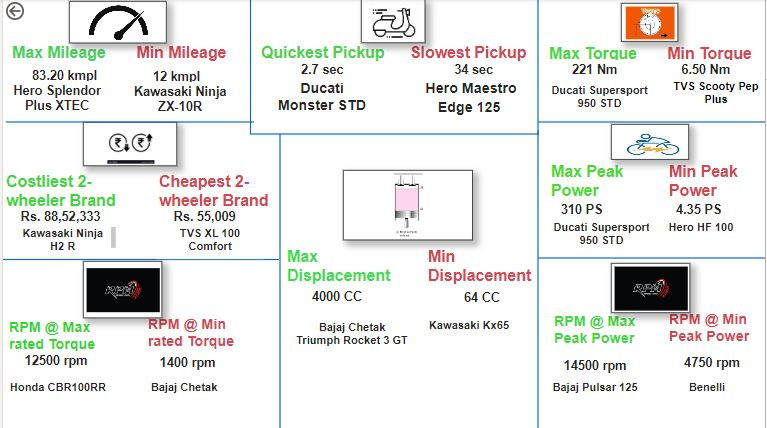

This screenshot's page, from the dashboard's own definition file:
{"tool":"powerbi","page":{"name":"Variant wise Stats","canvas":[1280,720],"ordinal":10},"visuals":[{"type":"textbox","box":[10.1,70.6,182.9,46.1],"z":0},{"type":"textbox","box":[208.8,70.6,182.9,46.1],"z":1000},{"type":"textbox","box":[427.7,70.6,250.6,60.5],"z":2000},{"type":"textbox","box":[678.2,70.6,221.8,46.1],"z":3000},{"type":"textbox","box":[0,288,226.1,72],"z":4000},{"type":"textbox","box":[256.3,288,220.3,72],"z":5000},{"type":"textbox","box":[913,72,161.3,59],"z":6000},{"type":"textbox","box":[1103.6,72.2,166.3,42],"z":7000},{"type":"textbox","box":[915.8,270.7,142.6,72],"z":8000},{"type":"textbox","box":[1113.1,270.7,145.4,72],"z":9000},{"type":"textbox","box":[472.3,413.3,198.7,72],"z":10000},{"type":"textbox","box":[708.5,413.3,198.7,72],"z":11000},{"type":"textbox","box":[5,532.5,178.1,72.2],"z":12000},{"type":"textbox","box":[238.5,527.5,176.4,72.2],"z":13000},{"type":"textbox","box":[920.5,522.4,161.3,72.2],"z":14000},{"type":"textbox","box":[1113.7,519.1,156.2,72.2],"z":15000},{"type":"image","box":[110.9,2.9,164.2,70.6],"z":16000},{"type":"image","box":[601.4,0,107.5,73.9],"z":17000},{"type":"image","box":[134.4,206.6,157.9,73.9],"z":18000},{"type":"image","box":[1038.2,7.2,96.5,64.8],"z":19000},{"type":"image","box":[1021,210.2,131,60.5],"z":20000},{"type":"image","box":[134.4,440.1,132.7,95.7],"z":21000},{"type":"image","box":[571.1,287.2,218.4,117.6],"z":22000},{"type":"textbox","box":[28.6,112.5,149.5,35.3],"z":23000},{"type":"textbox","box":[226.8,114.2,129.3,35.3],"z":24000},{"type":"textbox","box":[486.7,102.2,97.9,36],"z":25000},{"type":"textbox","box":[725.8,102.2,129.6,36],"z":26000},{"type":"textbox","box":[928.8,102.2,129.6,36],"z":27000},{"type":"textbox","box":[1116,102.2,129.6,36],"z":28000},{"type":"textbox","box":[10.1,349.4,173,37],"z":29000},{"type":"textbox","box":[279.4,349.9,125.3,36],"z":30000},{"type":"textbox","box":[907.2,337,129.6,36],"z":31000},{"type":"textbox","box":[1103,337,129.6,36],"z":32000},{"type":"textbox","box":[13.4,591.3,151.2,35.3],"z":33000},{"type":"textbox","box":[231.8,594.6,156.2,42],"z":34000},{"type":"image","box":[1021.3,443.5,132.7,84],"z":35000},{"type":"textbox","box":[915.5,599.7,157.9,47],"z":36000},{"type":"textbox","box":[1115.4,594.6,151.2,47],"z":37000},{"type":"textbox","box":[482.1,483.8,157.9,35.3],"z":38000},{"type":"textbox","box":[725.7,485.5,157.9,47],"z":39000},{"type":"shape","box":[5,193.2,416.6,26.9],"z":40000},{"type":"shape","box":[414.9,213.3,485.5,26.9],"z":41000},{"type":"shape","box":[388,0,55.4,226.8],"z":42000},{"type":"shape","box":[881.9,1.7,33.6,226.8],"z":43000},{"type":"shape","box":[898.7,193.2,381.3,26.9],"z":44000},{"type":"shape","box":[0,426.7,463.6,21.8],"z":45000},{"type":"shape","box":[443.5,226.8,43.7,493.9],"z":46000},{"type":"shape","box":[876.9,220.1,43.7,500.6],"z":47000},{"type":"shape","box":[898.7,421.6,381.3,26.9],"z":48000},{"type":"actionButton","box":[0,0,50.4,40.3],"z":49000},{"type":"textbox","box":[13.4,378,181.4,48.7],"z":50000},{"type":"textbox","box":[257,378,181.4,58.8],"z":51000},{"type":"textbox","box":[445.1,131,181.4,65.5],"z":52000},{"type":"textbox","box":[695.4,131,181.4,75.6],"z":53000},{"type":"textbox","box":[0,137.7,181.4,60.5],"z":54000},{"type":"textbox","box":[206.6,139.4,181.4,60.5],"z":55000},{"type":"textbox","box":[900.4,137.7,203.3,55.4],"z":56000},{"type":"textbox","box":[1115.4,131,164.6,65.5],"z":57000},{"type":"textbox","box":[907.1,367.9,196.5,58.8],"z":58000},{"type":"textbox","box":[1085.1,367.9,174.7,40.3],"z":59000},{"type":"textbox","box":[5,636.6,174.7,60.5],"z":60000},{"type":"textbox","box":[216.7,636.6,174.7,40.3],"z":61000},{"type":"textbox","box":[477.1,535.9,218.4,73.9],"z":62000},{"type":"textbox","box":[695.4,532.5,174.7,40.3],"z":63000},{"type":"textbox","box":[907.1,636.6,174.7,40.3],"z":64000},{"type":"textbox","box":[1095.2,636.6,174.7,40.3],"z":65000}]}

Visuals, with their boxes in screenshot pixels (x1, y1, x2, y2), scaled from the page's 1280x720 canvas onto the 767x428 screenshot:
textbox: 6 42 116 69
textbox: 125 42 235 69
textbox: 256 42 406 78
textbox: 406 42 539 69
textbox: 0 171 135 214
textbox: 154 171 286 214
textbox: 547 43 644 78
textbox: 661 43 761 68
textbox: 549 161 634 204
textbox: 667 161 754 204
textbox: 283 246 402 288
textbox: 425 246 544 288
textbox: 3 317 110 359
textbox: 143 314 249 356
textbox: 552 311 648 353
textbox: 667 309 761 351
image: 66 2 165 44
image: 360 0 425 44
image: 81 123 175 167
image: 622 4 680 43
image: 612 125 690 161
image: 81 262 160 319
image: 342 171 473 241
textbox: 17 67 107 88
textbox: 136 68 213 89
textbox: 292 61 350 82
textbox: 435 61 513 82
textbox: 557 61 634 82
textbox: 669 61 746 82
textbox: 6 208 110 230
textbox: 167 208 243 229
textbox: 544 200 621 222
textbox: 661 200 739 222
textbox: 8 351 99 372
textbox: 139 353 232 378
image: 612 264 691 314
textbox: 549 356 643 384
textbox: 668 353 759 381
textbox: 289 288 384 309
textbox: 435 289 529 317
shape: 3 115 253 131
shape: 249 127 540 143
shape: 232 0 266 135
shape: 528 1 549 136
shape: 539 115 766 131
shape: 0 254 278 267
shape: 266 135 292 427
shape: 525 131 552 427
shape: 539 251 766 267
actionButton: 0 0 30 24
textbox: 8 225 117 254
textbox: 154 225 263 260
textbox: 267 78 375 117
textbox: 417 78 525 123
textbox: 0 82 109 118
textbox: 124 83 232 119
textbox: 540 82 661 115
textbox: 668 78 766 117
textbox: 544 219 661 254
textbox: 650 219 755 243
textbox: 3 378 108 414
textbox: 130 378 235 402
textbox: 286 319 417 362
textbox: 417 317 521 340
textbox: 544 378 648 402
textbox: 656 378 761 402
